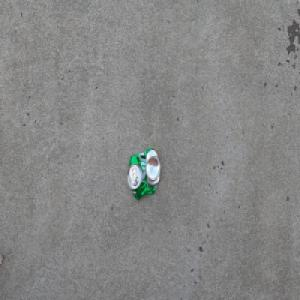SodaCan: (126, 146, 160, 201)
